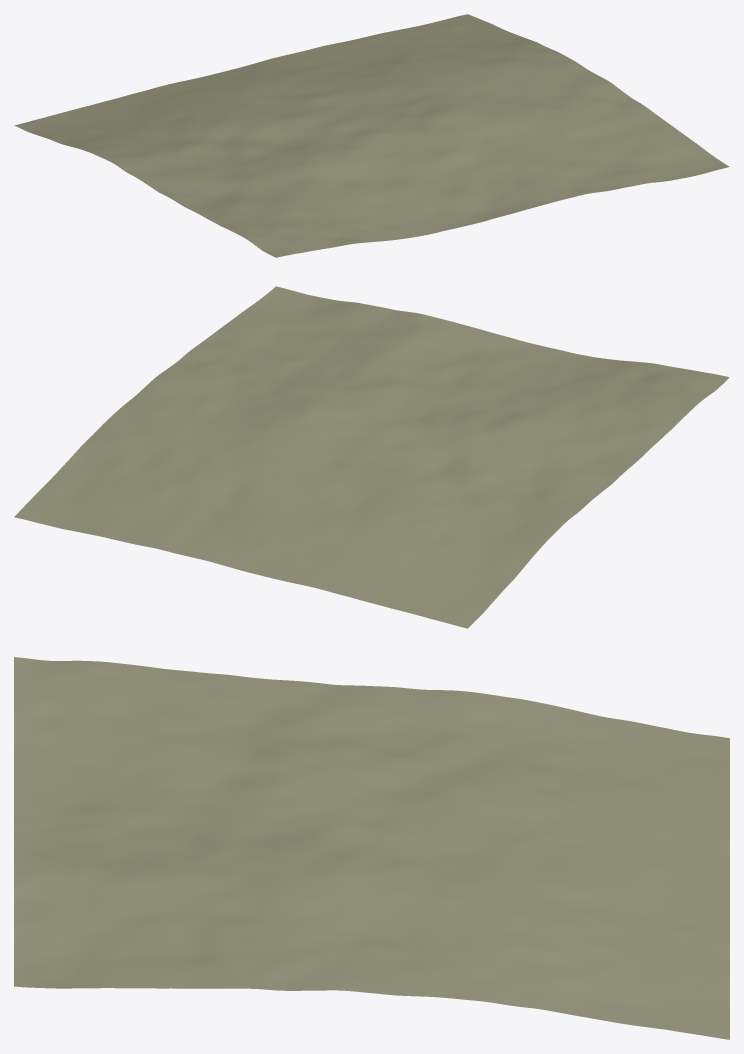
The model's file is SM_VB_Terrain_2_3.fbx.
3 views of the same model, one above another, from view 1: azimuth 30°, elevation 25°; view 2: azimuth 150°, elevation 25°; view 3: azimuth 270°, elevation 25° (orthographic). The views are drawn at different scales.
Parts seen in each view (by area): view 1: SM_VB_Terrain_2_3; view 2: SM_VB_Terrain_2_3; view 3: SM_VB_Terrain_2_3.
Part boxes in pixels (<box>): SM_VB_Terrain_2_3: <box>14,14,729,257</box>; SM_VB_Terrain_2_3: <box>14,286,729,628</box>; SM_VB_Terrain_2_3: <box>14,657,729,1039</box>.
Size of the model in its own units: 400 by 50.12 by 400.
